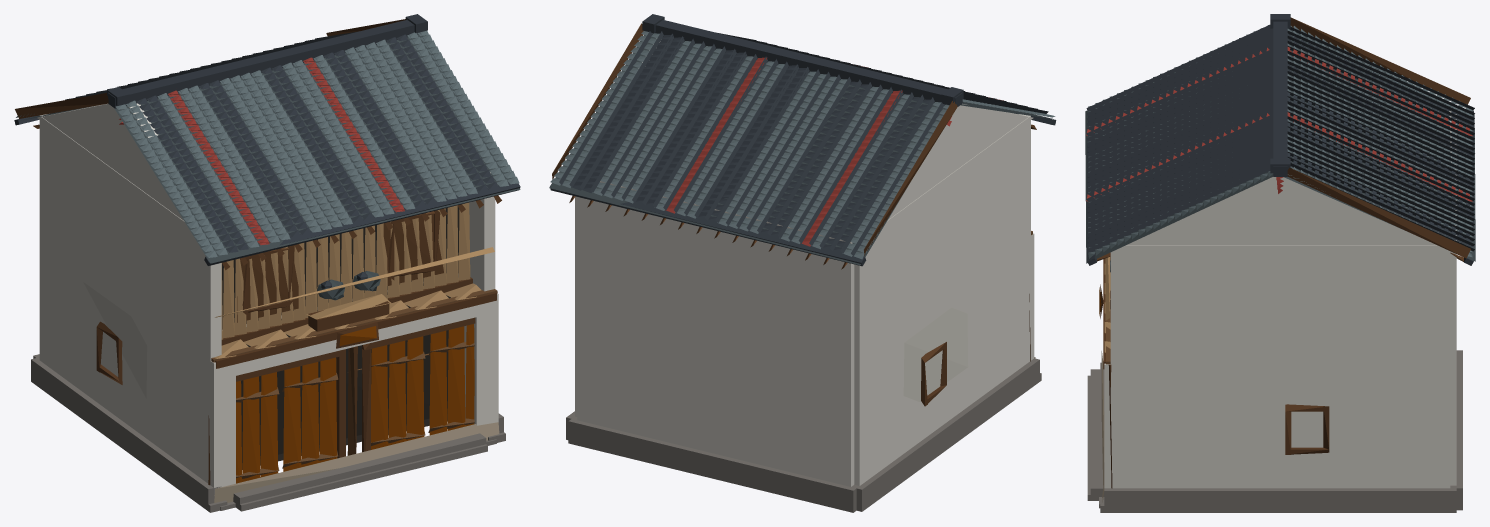
File: lib_lib_house_b2.vc.glb
3 views of the same model, side by side, from view 1: azimuth 30°, elevation 25°; view 2: azimuth 150°, elevation 25°; view 3: azimuth 270°, elevation 25° (orthographic).
Parts seen in each view (by area): view 1: lib_lib_house_b2; view 2: lib_lib_house_b2; view 3: lib_lib_house_b2.
Boxes of the visible parts, x1,y1,x2,y2 form: lib_lib_house_b2: (14, 14, 520, 512); lib_lib_house_b2: (549, 14, 1056, 512); lib_lib_house_b2: (1085, 14, 1475, 512).
Size of the model in its own units: 7.38 by 7.98 by 8.02.
